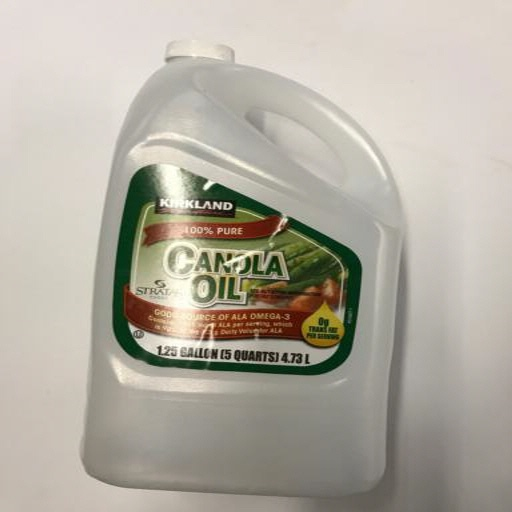Plastic_1: (80, 39, 401, 496)
